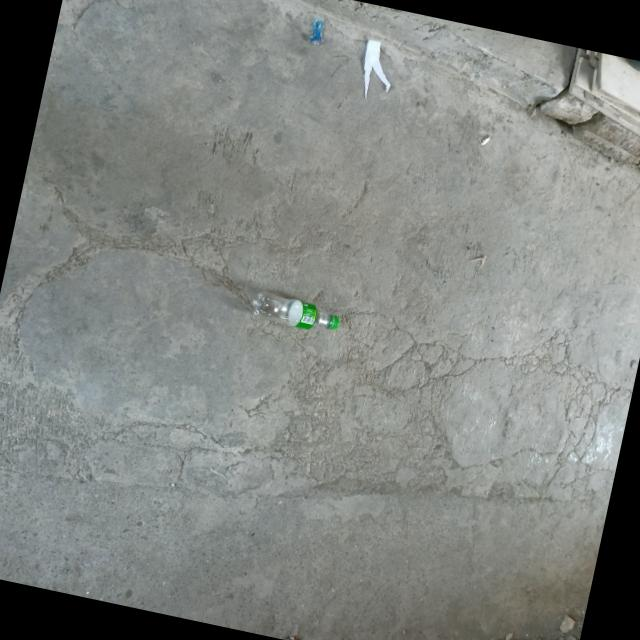Bottle: (251, 292, 338, 329)
